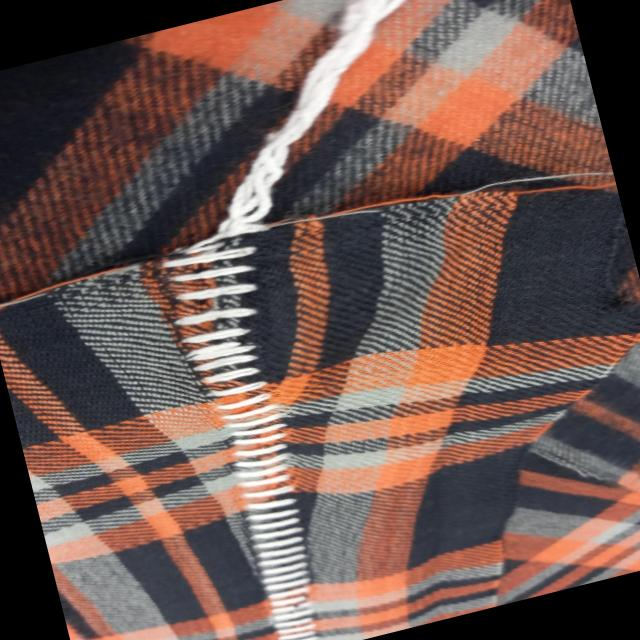gray stitch: (151, 225, 359, 640)
